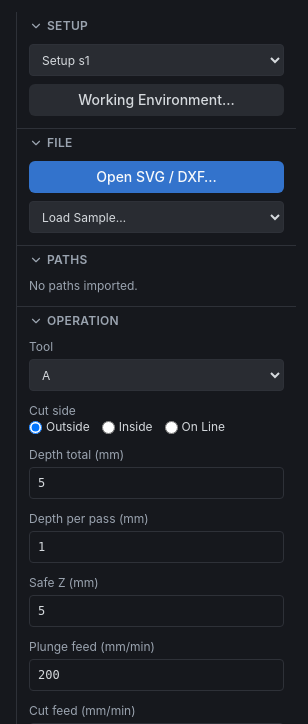
it: Mode2ProfileMode › Operation form › re-snaps the tool selection when the active setup changes
The image size is (308, 724).
Expected: the dropdown named "Tool" shows "A", [29, 359, 284, 391]
Select "Setup s2" in the dropdown named "Active machine setup": (156, 60) [29, 44, 284, 76]
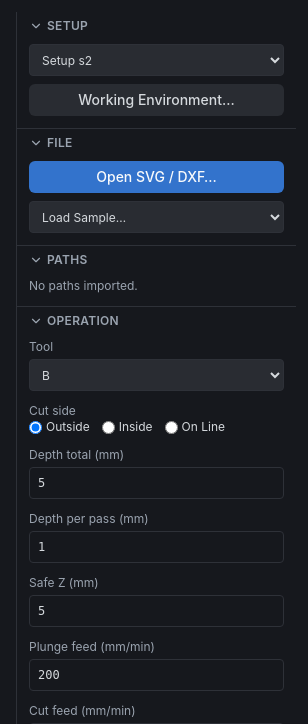
Now the dropdown named "Tool" shows "B", box [29, 359, 284, 391]
